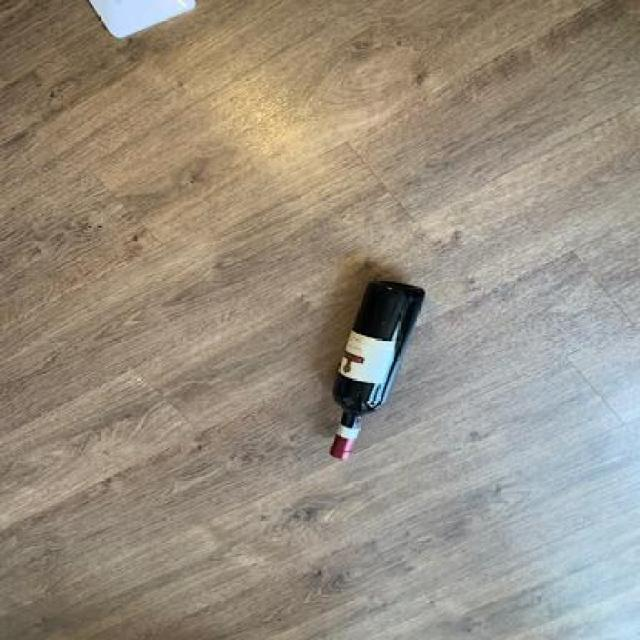trash: (325, 279, 426, 463)
